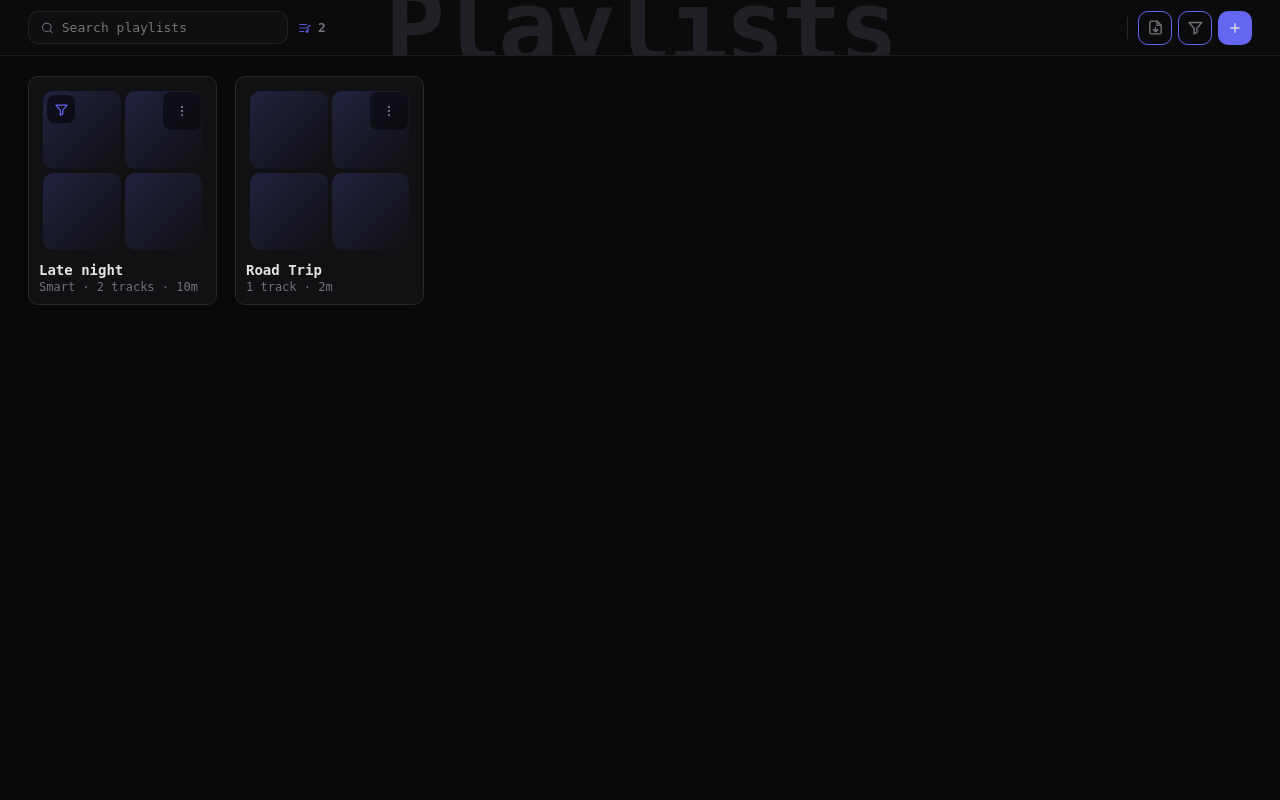
PlaylistsView smart playlists › offers the rules when nothing matches
The width and height of the screenshot is (1280, 800).
Click the button with aria-label "Late night — Smart playlist · 2 tracks · 10m" at coordinates (122, 190), box [28,76,217,305]
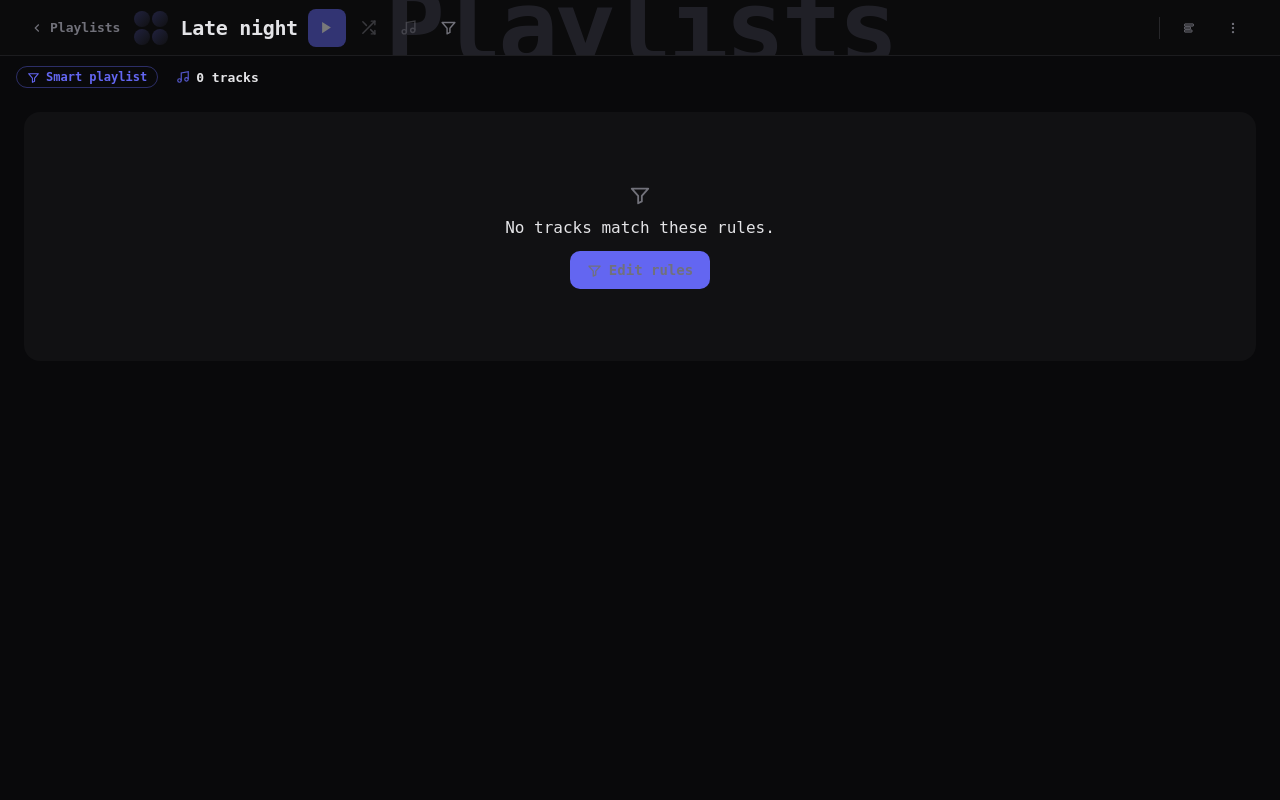
Click the button "Edit rules" at coordinates (640, 270), box [570,251,710,289]
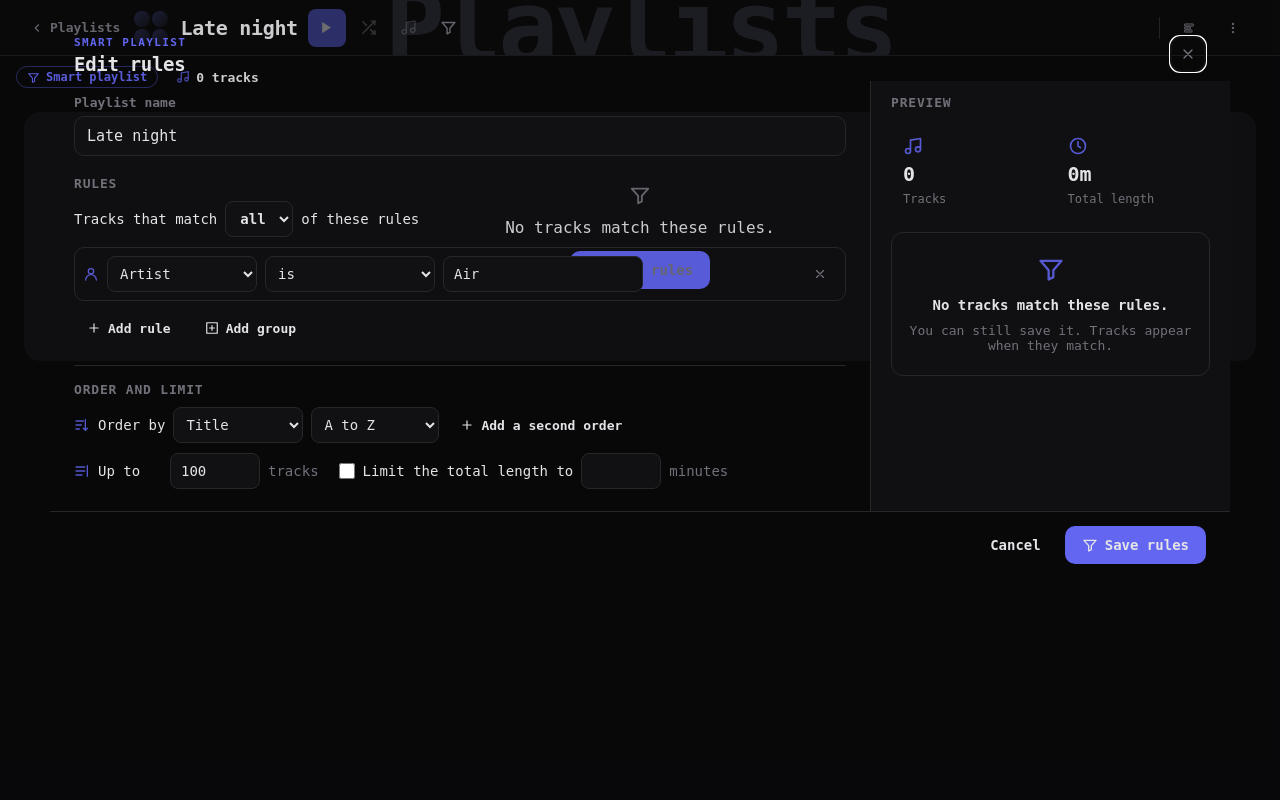
Expected: the dialog "Edit rules" is shown
